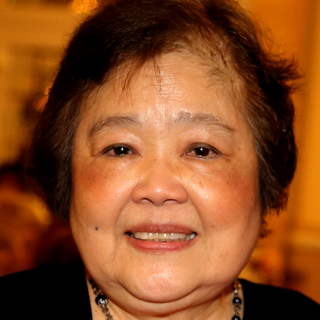eye: (174, 139, 228, 166), (92, 139, 141, 165)
